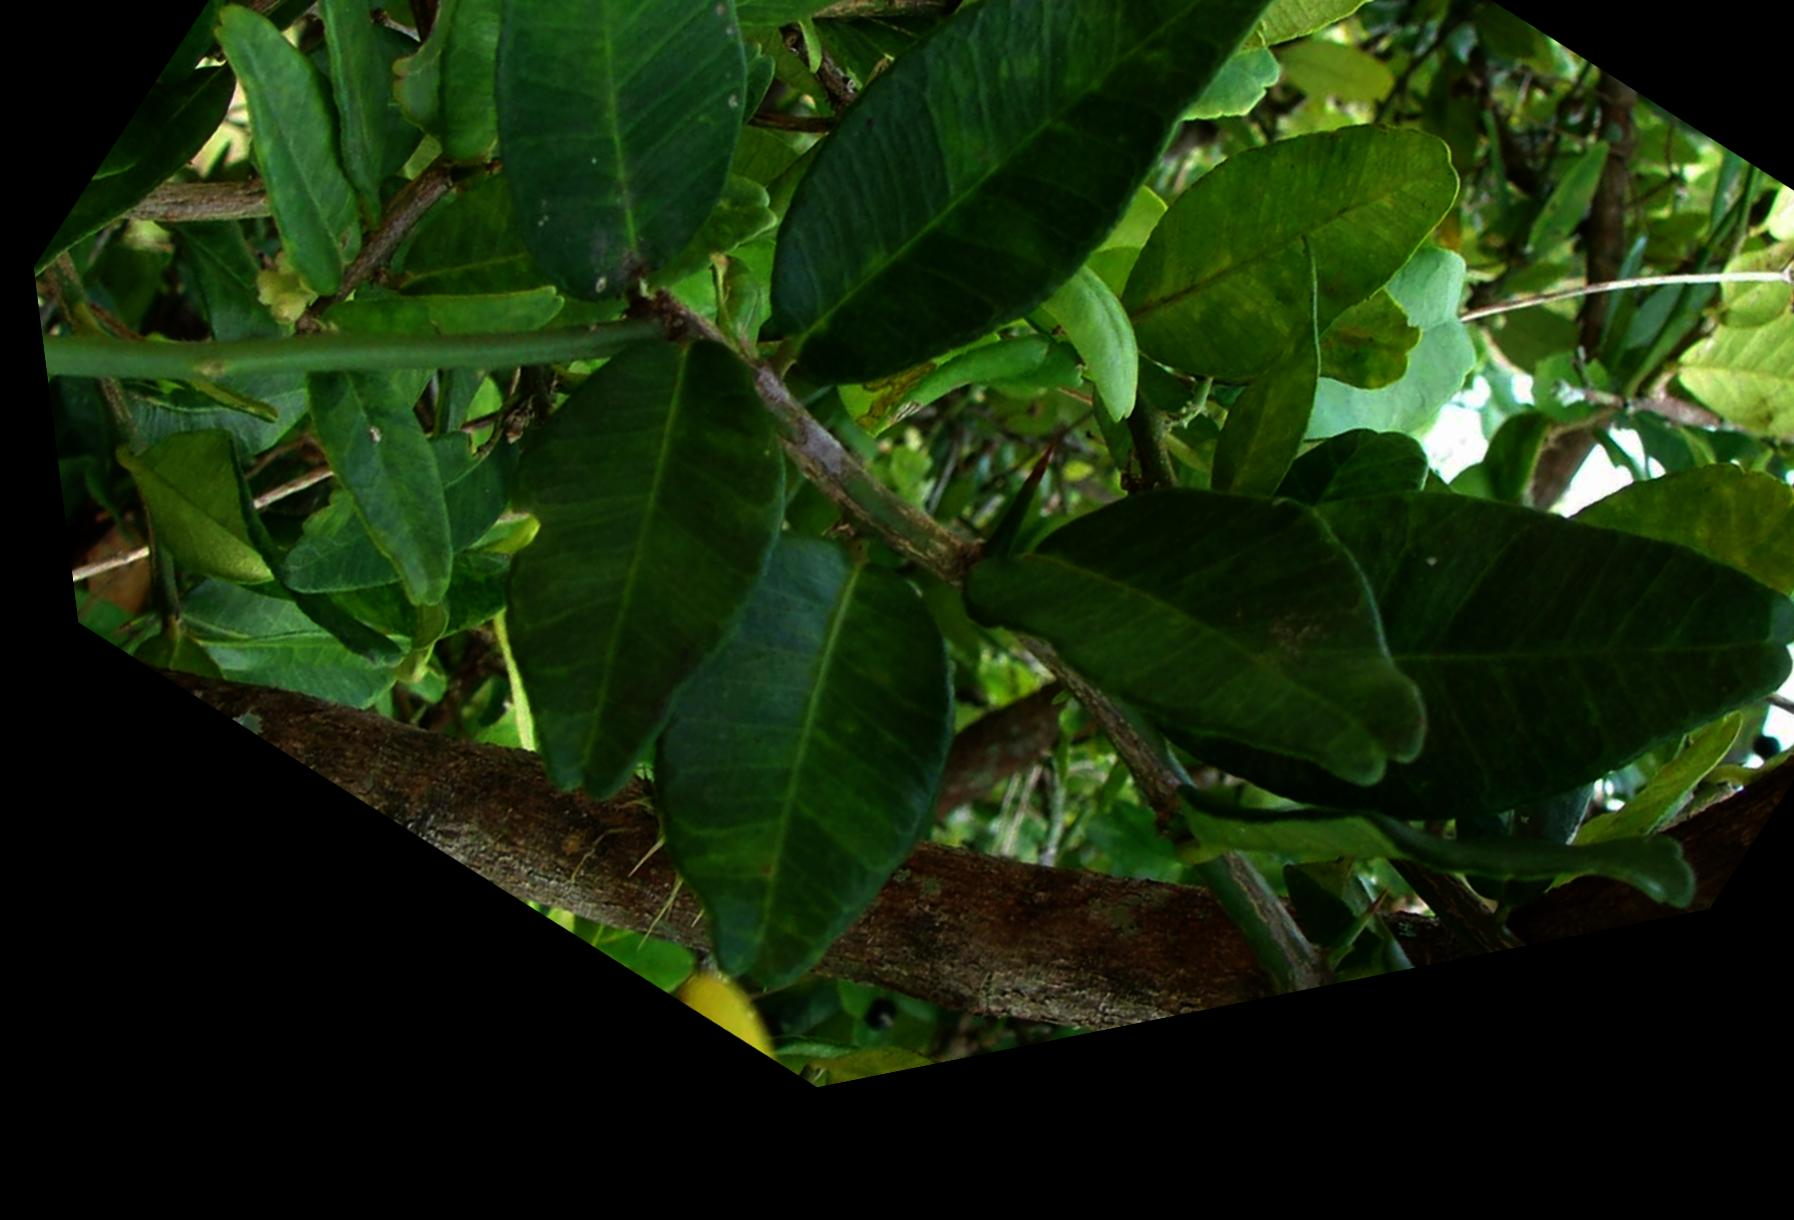Citrus Greening: (648, 0, 1360, 546), (323, 266, 881, 865), (289, 0, 953, 410)
